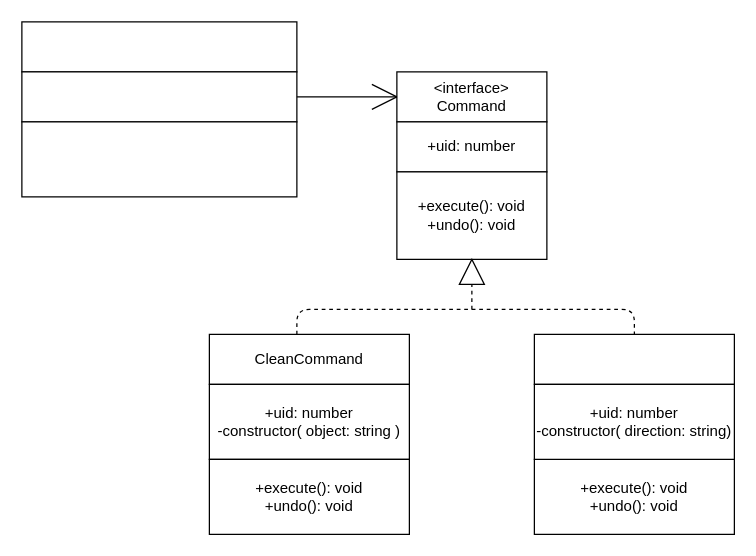
Some shapes in this 756 by 556 pixel diagram are drawn without their labels. The box of each missing label's shape, as (x1, y1, x2, y2) in pixels:
+execute( command: Command ): void +undo( command: Command ): void: (21, 121, 297, 197)
-commands: Array<Command>: (21, 71, 297, 122)
AndroidRobot: (21, 21, 297, 72)
MoveCommand: (533, 333, 734, 384)
